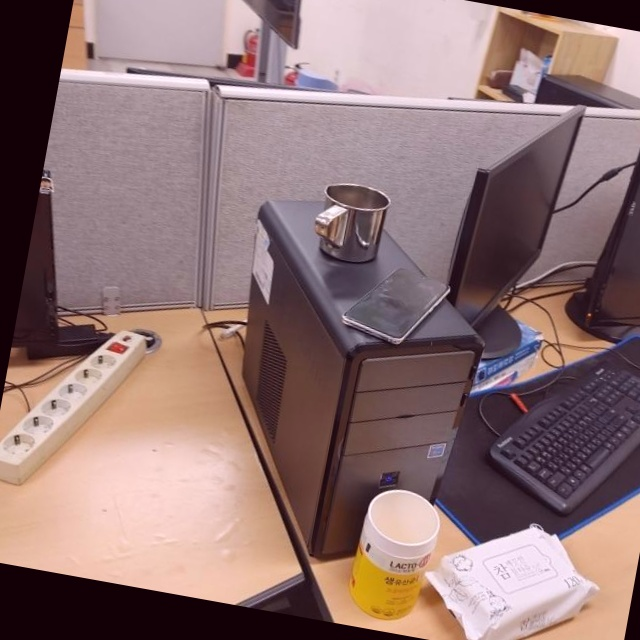cup: (311, 178, 395, 269)
phone: (337, 256, 454, 353)
